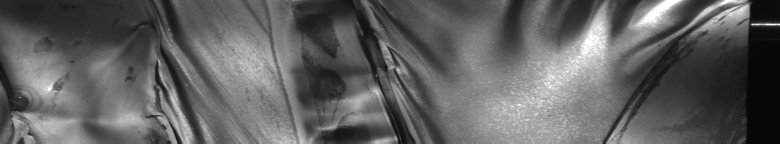ke: (300, 4, 422, 136)
